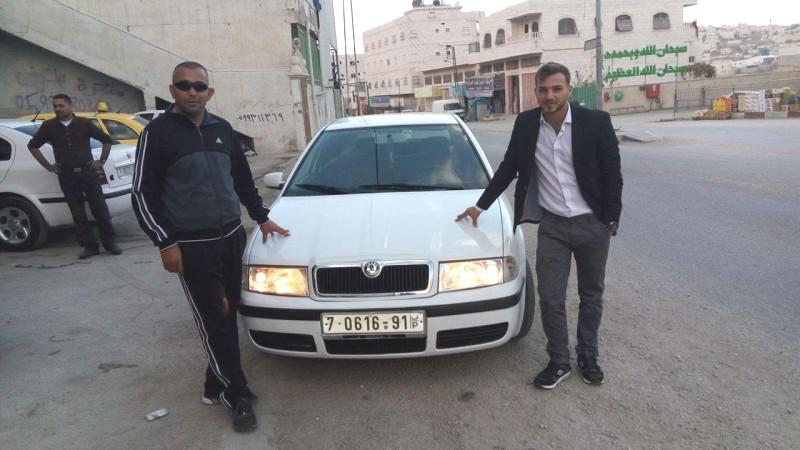skoda: (361, 257, 386, 281)
